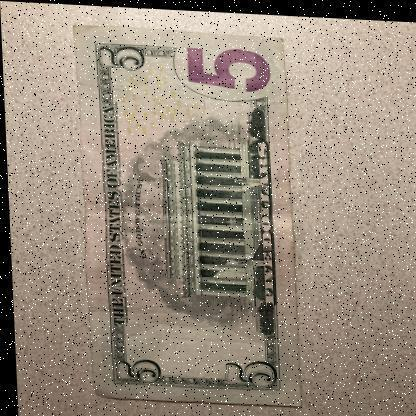five-back: (70, 21, 300, 404)
